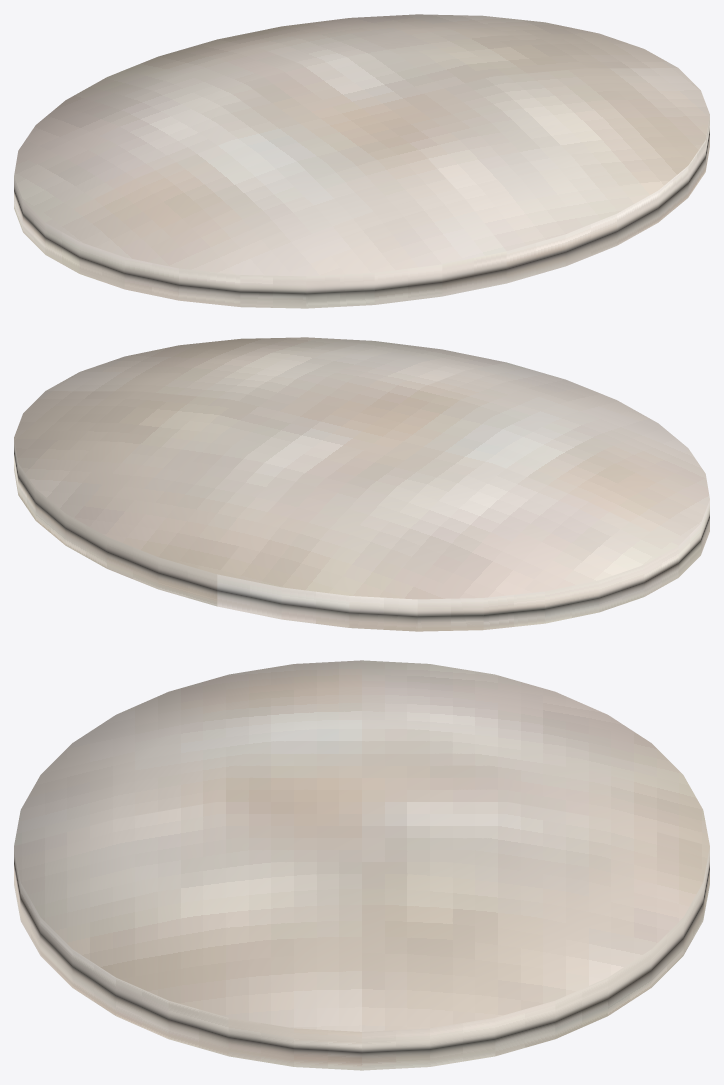
File: mash.gltf
The picture shows the model from 3 angles, top to bottom: view 1: azimuth 30°, elevation 25°; view 2: azimuth 150°, elevation 25°; view 3: azimuth 270°, elevation 25°; orthographic projection. The views are drawn at different scales.
Parts seen in each view (by area): view 1: Mash, Mash_Coarse; view 2: Mash; view 3: Mash, Mash_Coarse.
Part boxes in pixels (left/top/right/bottom): Mash: left=14, top=14, right=709, bottom=308; Mash_Coarse: left=221, top=66, right=327, bottom=115; Mash: left=14, top=337, right=709, bottom=631; Mash: left=14, top=660, right=709, bottom=1070; Mash_Coarse: left=430, top=736, right=496, bottom=836.
Bounding box in the file's own units: 0.4799 × 0.05 × 0.38.
Materials: 1 (1 with a texture image).
